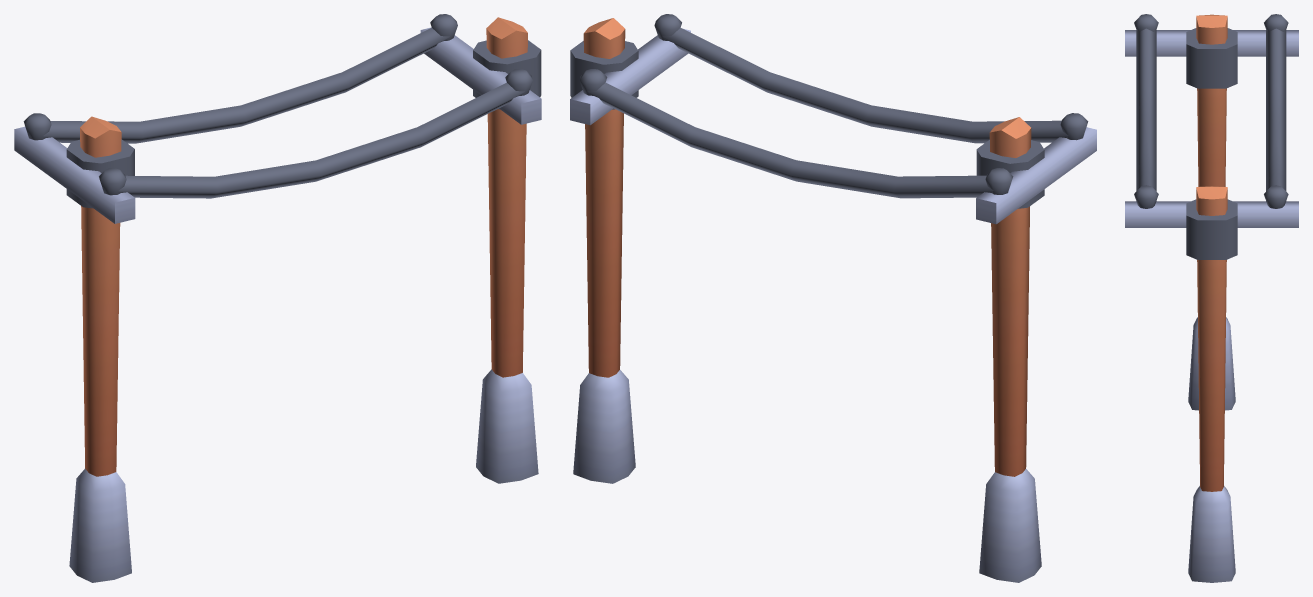
The model's file is roads.electricity_pole.glb.
The picture shows the model from 3 angles, left to right: view 1: azimuth 30°, elevation 25°; view 2: azimuth 150°, elevation 25°; view 3: azimuth 270°, elevation 25°; orthographic projection. The views are drawn at different scales.
Parts seen in each view (by area): view 1: electricity-pole; view 2: electricity-pole; view 3: electricity-pole.
Boxes of the visible parts, box(x1,y1,x2,y2) form: electricity-pole: box(14, 14, 541, 582); electricity-pole: box(570, 14, 1096, 582); electricity-pole: box(1125, 14, 1298, 582).
Bounding box in the file's own units: 4.31 × 3.91 × 1.6.
1 material, 1 textured.
